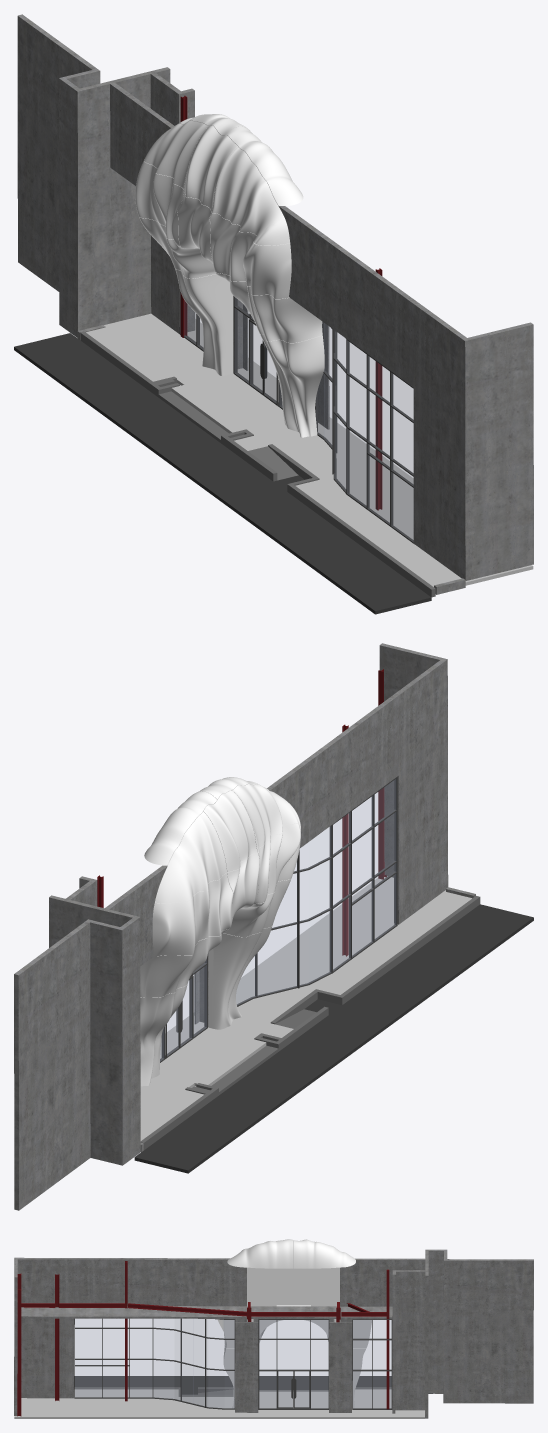
The model's file is AIGC.YY_006E.glb.
The picture shows the model from 3 angles, top to bottom: view 1: azimuth 30°, elevation 25°; view 2: azimuth 150°, elevation 25°; view 3: azimuth 270°, elevation 25°; orthographic projection. The views are drawn at different scales.
Parts seen in each view (by area): view 1: Wall- 15cm:260380, 樓板, IfcWindow/Swin:Swin:Glass, IfcWindow/Swin:Swin:317530, R03, R04, R01, L01, R02, M02, L03, L04 (+4 smaller); view 2: Wall- 15cm:260380, 樓板, IfcWindow/Swin:Swin:Glass, IfcWindow/Swin:Swin:317530, L03, L04, R01, M02, L02, L01, R04, R03 (+4 smaller); view 3: Wall- 15cm:260380, IfcWindow/Swin:Swin:Glass, 樓板, IfcColumn/H 型鋼柱:H200x200 2:274339, IfcWindow/Swin:Swin:317530, T02, T01, M01, R03, L03, L02, R02 (+3 smaller).
Boxes of the visible parts, box(x1,y1,x2,y2) form: Wall- 15cm:260380: box(17, 14, 533, 594); 樓板: box(14, 313, 533, 614); IfcWindow/Swin:Swin:Glass: box(184, 298, 413, 541); IfcWindow/Swin:Swin:317530: box(179, 289, 413, 543); R03: box(209, 212, 291, 298); R04: box(211, 147, 290, 245); R01: box(260, 334, 324, 437); L01: box(175, 269, 233, 375); R02: box(215, 272, 322, 342); M02: box(184, 125, 238, 211); L03: box(135, 160, 183, 246); L04: box(144, 120, 208, 189); Wall- 15cm:260380: box(14, 643, 475, 1210); 樓板: box(134, 876, 533, 1173); IfcWindow/Swin:Swin:Glass: box(160, 779, 396, 1061); IfcWindow/Swin:Swin:317530: box(160, 776, 397, 1062); L03: box(152, 873, 233, 956); L04: box(155, 811, 227, 903); R01: box(208, 926, 272, 1029); M02: box(203, 790, 257, 872); L02: box(140, 928, 229, 997); L01: box(140, 984, 187, 1086); R04: box(232, 784, 299, 852); R03: box(254, 821, 300, 904); Wall- 15cm:260380: box(14, 1249, 533, 1418); IfcWindow/Swin:Swin:Glass: box(75, 1319, 391, 1408); 樓板: box(14, 1376, 432, 1418); IfcColumn/H 型鋼柱:H200x200 2:274339: box(17, 1261, 389, 1416); IfcWindow/Swin:Swin:317530: box(74, 1318, 392, 1409); T02: box(227, 1239, 293, 1268); T01: box(294, 1239, 355, 1268); M01: box(276, 1275, 310, 1321); R03: box(247, 1275, 276, 1306); L03: box(311, 1275, 339, 1306); L02: box(311, 1319, 371, 1348); R02: box(217, 1319, 276, 1348).
Size of the model in its own units: 7.44 by 12.83 by 36.47.
Materials: 19 (1 with a texture image).
